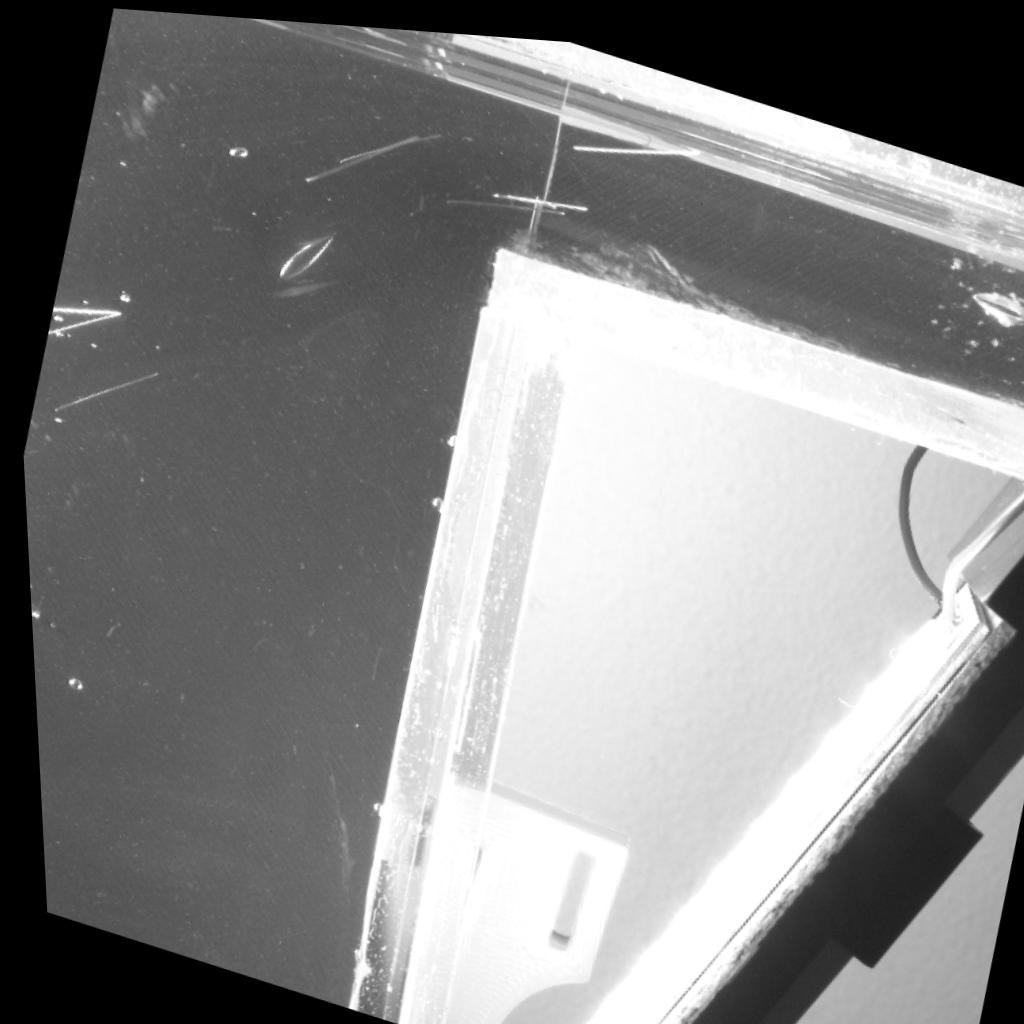Fiber: (302, 124, 421, 179), (46, 364, 158, 412), (334, 121, 440, 158), (487, 178, 588, 204), (442, 188, 566, 207), (568, 131, 698, 149)
